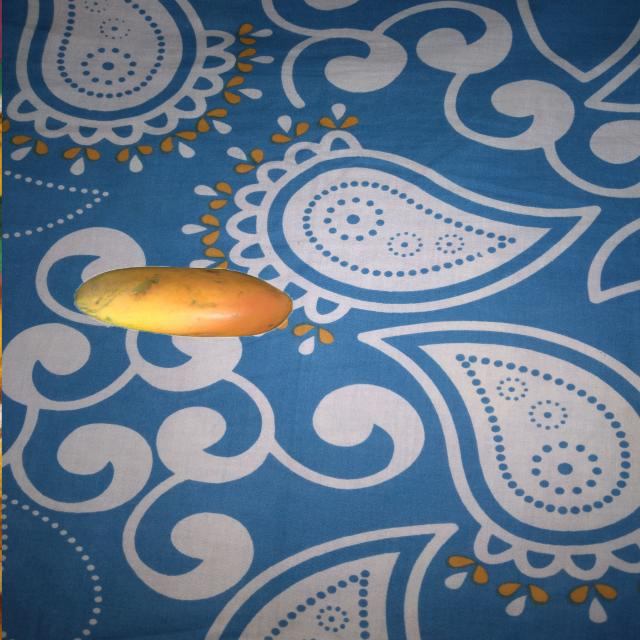Pepaya rippen: (64, 260, 295, 347)
